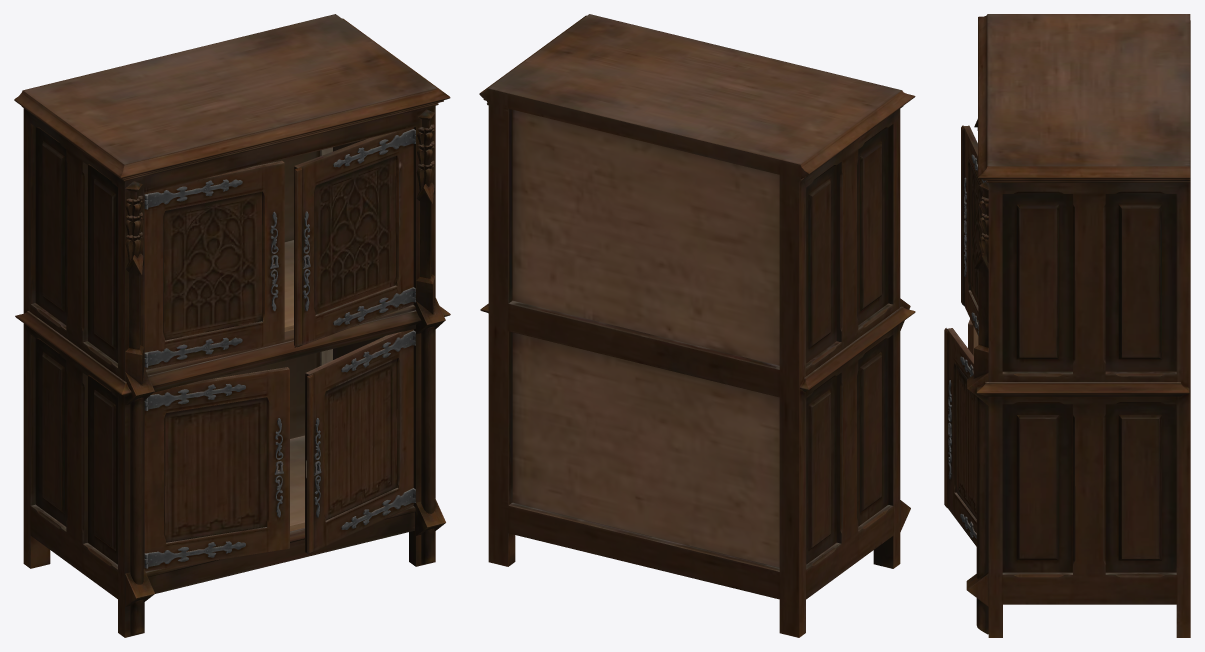
The model's file is GothicCabinet_01.glb.
3 views of the same model, side by side, from view 1: azimuth 30°, elevation 25°; view 2: azimuth 150°, elevation 25°; view 3: azimuth 270°, elevation 25° (orthographic).
Parts seen in each view (by area): view 1: GothicCabinet_01_cabinet, GothicCabinet_01_door3, GothicCabinet_01_door1, GothicCabinet_01_door2, GothicCabinet_01_door4; view 2: GothicCabinet_01_cabinet; view 3: GothicCabinet_01_cabinet, GothicCabinet_01_door4, GothicCabinet_01_door2.
Part boxes in pixels (<box>): GothicCabinet_01_cabinet: <box>14,14,450,637</box>; GothicCabinet_01_door3: <box>144,367,289,571</box>; GothicCabinet_01_door1: <box>144,160,284,369</box>; GothicCabinet_01_door2: <box>294,127,415,347</box>; GothicCabinet_01_door4: <box>305,329,415,554</box>; GothicCabinet_01_cabinet: <box>479,14,915,637</box>; GothicCabinet_01_cabinet: <box>966,14,1190,637</box>; GothicCabinet_01_door4: <box>944,328,976,546</box>; GothicCabinet_01_door2: <box>961,125,986,335</box>.
Bounding box in the file's own units: 1.72 × 2.36 × 1.12.
1 material, 1 textured.
